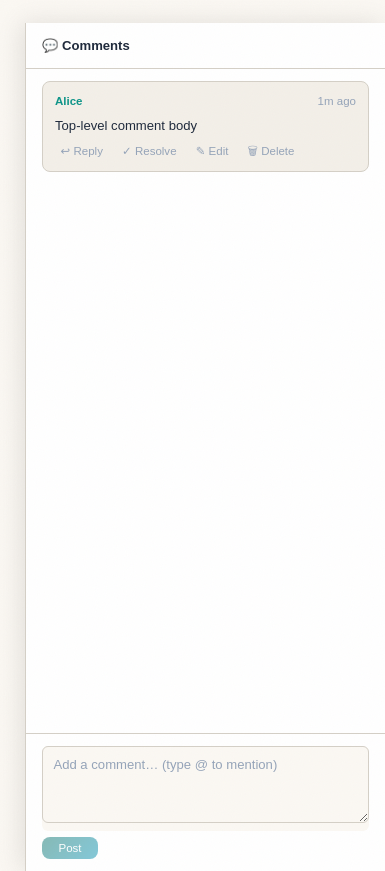
Test: CommentPanel – edit › shows edit form when Edit is clicked on own comment
This screenshot has width=385, height=871.
Expected: the text "Top-level comment body" is shown, [55,118,197,133]
Click the button named "edit comment" at (212, 152), box [190,143,234,161]
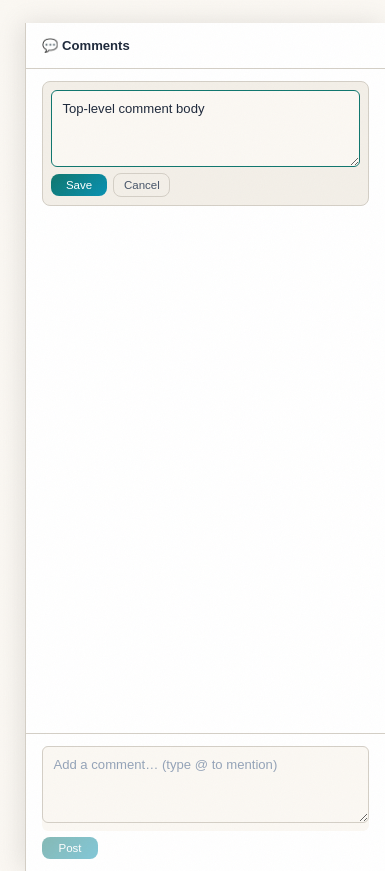
Expected: the text box showing "Top-level comment body" is shown, [51,90,360,167]
